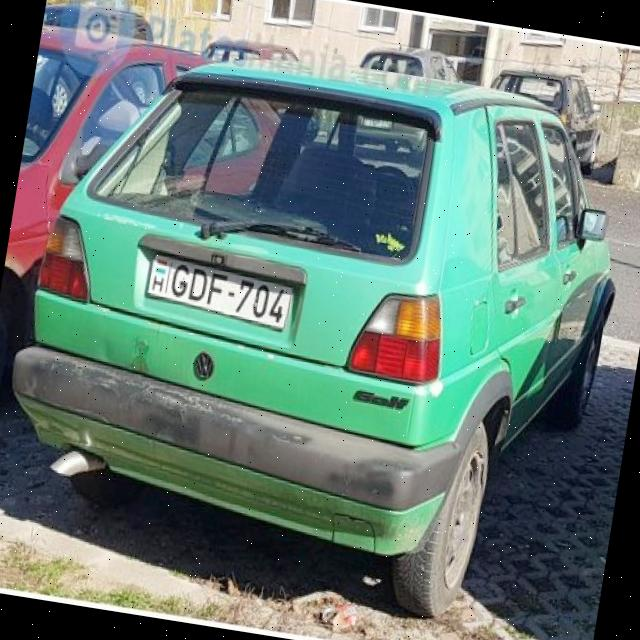licence: (142, 248, 298, 339)
